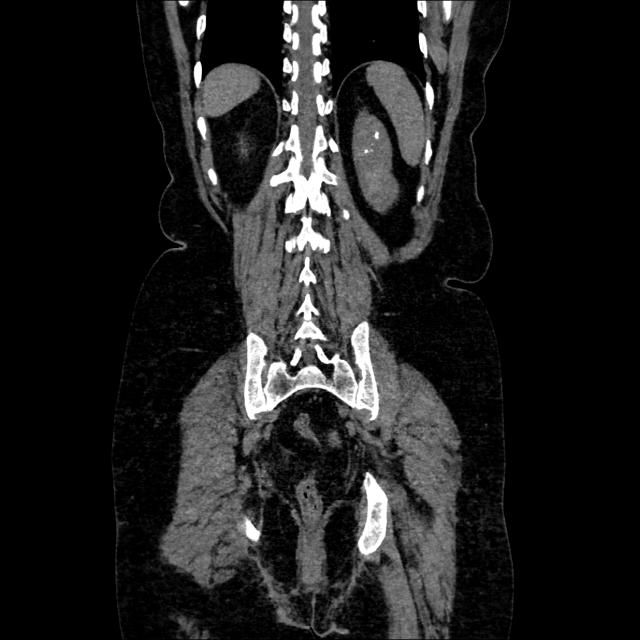kidney: (347, 105, 402, 220), (235, 133, 255, 169)
stone: (362, 146, 372, 156), (374, 128, 381, 141)
